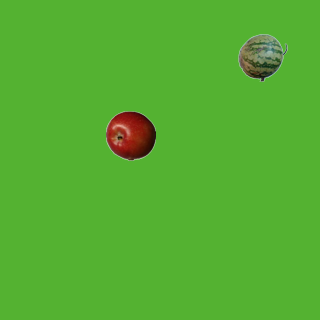Apple Braeburn: (105, 110, 155, 160)
Watermelon: (237, 32, 287, 82)
